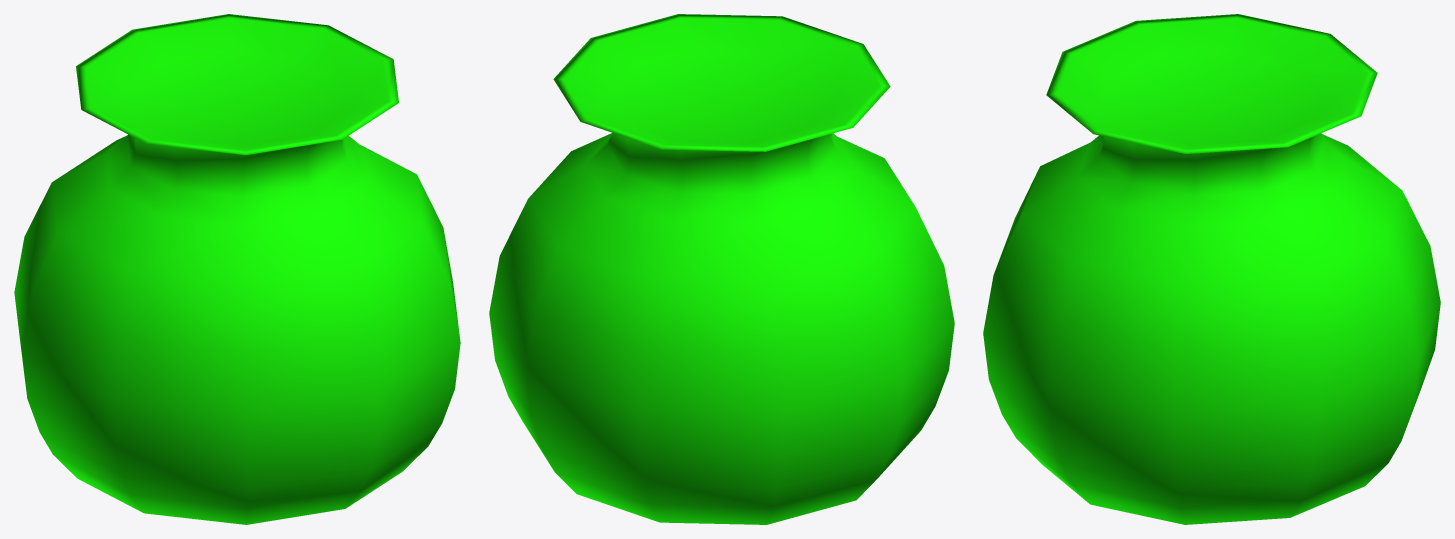
Rendered from mud pot.fbx.
3 renders of one model, left to right at view 1: azimuth 30°, elevation 25°; view 2: azimuth 150°, elevation 25°; view 3: azimuth 270°, elevation 25°, orthographic.
Parts seen in each view (by area): view 1: mud pot; view 2: mud pot; view 3: mud pot.
Part boxes in pixels (<box>): mud pot: <box>14,14,460,524</box>; mud pot: <box>489,14,954,524</box>; mud pot: <box>983,14,1440,524</box>.
Bounding box in the file's own units: 0.2062 × 0.1836 × 0.2062.
